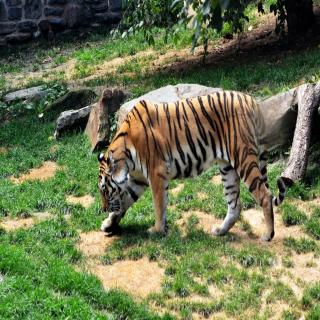Tiger: (97, 90, 286, 240)
